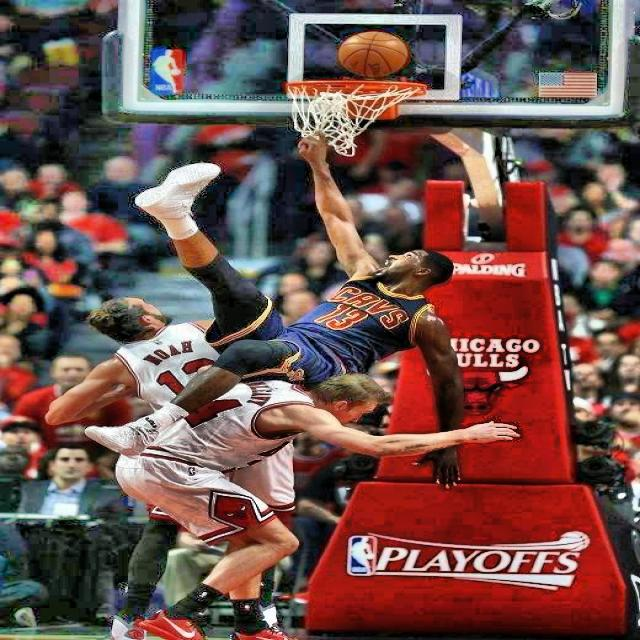board: (339, 32, 408, 76)
rim: (286, 80, 428, 144)
